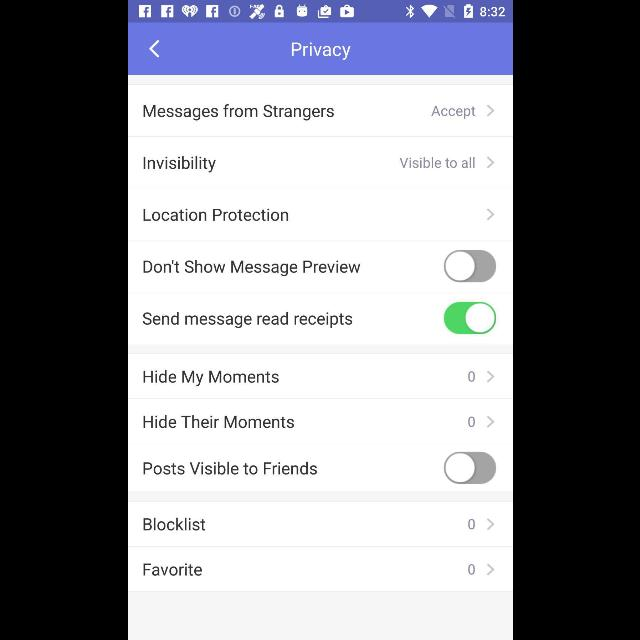icon: (148, 40, 158, 58), (484, 104, 494, 118), (486, 371, 494, 384), (486, 563, 494, 575), (486, 518, 494, 530), (486, 416, 494, 428), (486, 209, 494, 221), (486, 157, 494, 169)
switch: (442, 452, 496, 484), (442, 302, 496, 334), (442, 250, 496, 282)
text: (143, 260, 360, 276), (142, 312, 352, 328), (142, 105, 334, 122), (142, 461, 316, 475), (142, 369, 278, 386), (142, 415, 294, 429), (142, 208, 288, 222), (142, 156, 215, 172), (290, 41, 350, 60), (398, 157, 474, 169), (143, 517, 205, 531), (142, 564, 202, 576), (430, 106, 476, 120), (468, 518, 474, 530), (468, 417, 474, 428), (468, 564, 474, 574), (468, 372, 474, 382)
toolbar: (128, 23, 512, 75)
uppertaskbar: (128, 1, 512, 23)
